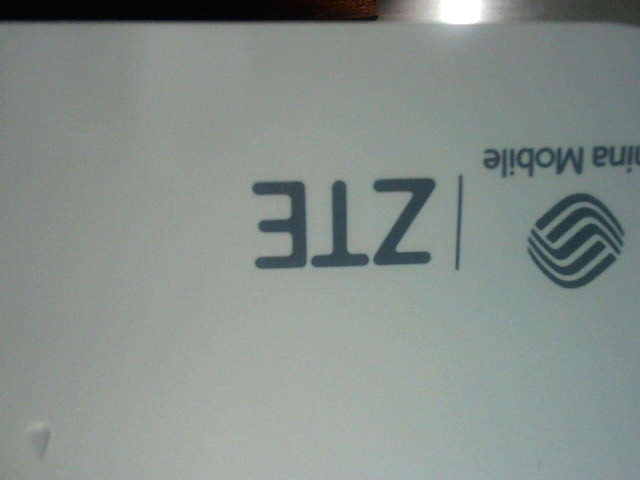AL_ZTEChinaMobile: (240, 139, 639, 300)
